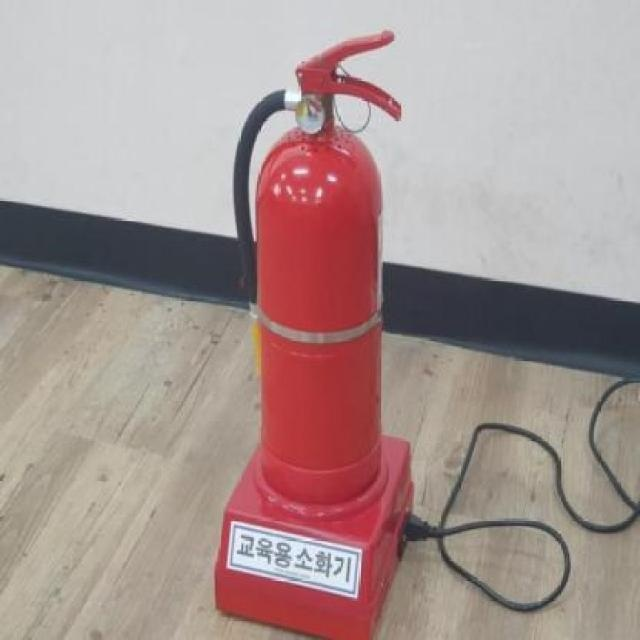fire extinguisher: (232, 31, 401, 503)
